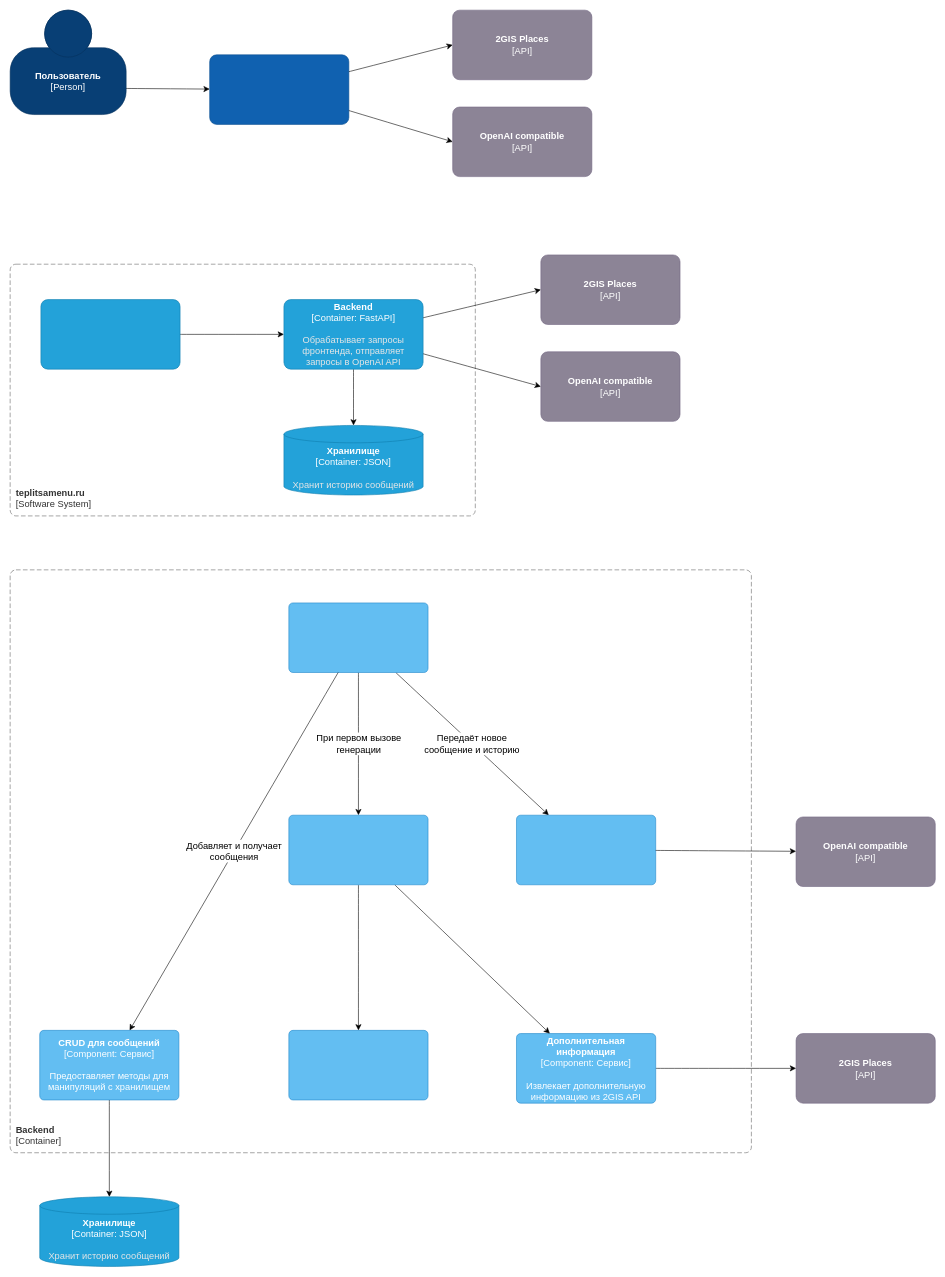
Some shapes in this 945 by 1277 pixel diagram are drawn without their labels. The centre of each missing label's shape, as x and y in pixels:
"API сервис [Component: FastAPI] Обрабатывает входящие запросы от фронтенда" belongs at (x=358, y=637).
"Frontend [Container: React или Gradio] Фронтенд сайта с чатом, меню, корзиной" belongs at (x=110, y=334).
"teplitsamenu.ru ..." belongs at (x=279, y=89).
"Генерация ответа [Component: Сервис] Формирует финальный ответ" belongs at (x=586, y=850).
"Инициализация чата [Component: Сервис] Формирует системный промпт" belongs at (x=358, y=850).
"Парсинг меню [Component: bs4] Парсит меню с сайта teplitsamenu.ru" belongs at (x=358, y=1065).
